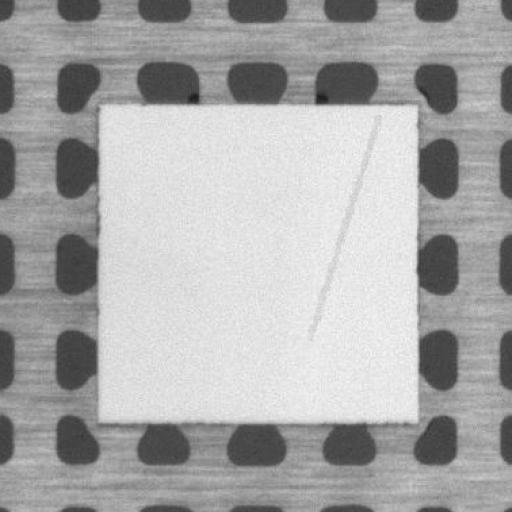DIE_CRACK: (308, 116, 377, 338)
